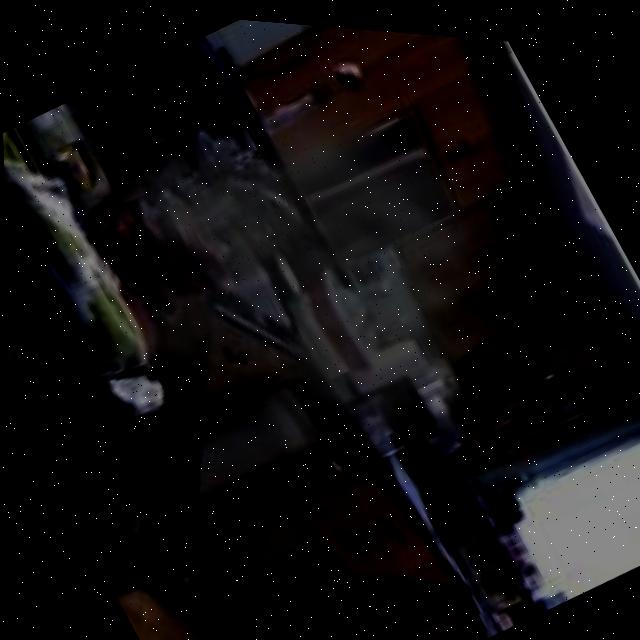Smoke: (10, 1, 636, 614)
